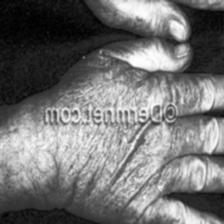Non-Cancerous Skin Condition: (50, 119, 207, 210), (57, 48, 149, 100)
